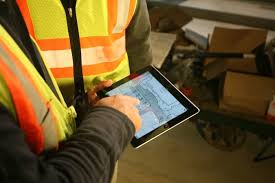High Viz: (2, 1, 72, 141), (56, 1, 133, 84)
